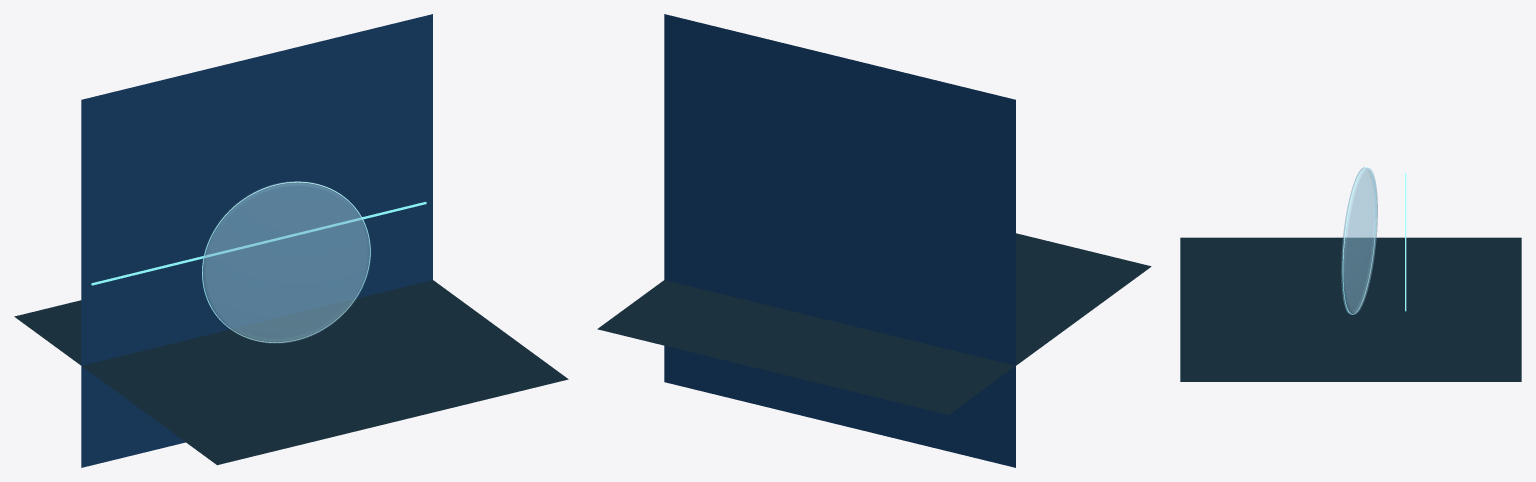
File: Stellest 2.0.glb
3 renders of one model, left to right at view 1: azimuth 30°, elevation 25°; view 2: azimuth 150°, elevation 25°; view 3: azimuth 270°, elevation 25°, orthographic. The views are drawn at different scales.
Parts seen in each view (by area): view 1: Premium_Dark_Background, Subtle_Reflection_Floor, Stellest_Transparent_Lens, Blue_Light_Strip_Behind_Lens, Premium_Lens_Edge_Glow; view 2: Premium_Dark_Background, Subtle_Reflection_Floor; view 3: Subtle_Reflection_Floor, Stellest_Transparent_Lens, Premium_Lens_Edge_Glow.
Boxes of the visible parts, x1,y1,x2,y2 form: Premium_Dark_Background: (81, 14, 432, 467); Subtle_Reflection_Floor: (14, 280, 568, 465); Stellest_Transparent_Lens: (202, 181, 370, 343); Blue_Light_Strip_Behind_Lens: (91, 202, 426, 285); Premium_Lens_Edge_Glow: (202, 181, 370, 342); Premium_Dark_Background: (664, 14, 1015, 467); Subtle_Reflection_Floor: (597, 233, 1151, 414); Subtle_Reflection_Floor: (1180, 237, 1521, 381); Stellest_Transparent_Lens: (1341, 167, 1377, 314); Premium_Lens_Edge_Glow: (1342, 167, 1376, 314).
Size of what is drawn, in the model's own units: 8 by 8 by 8.
